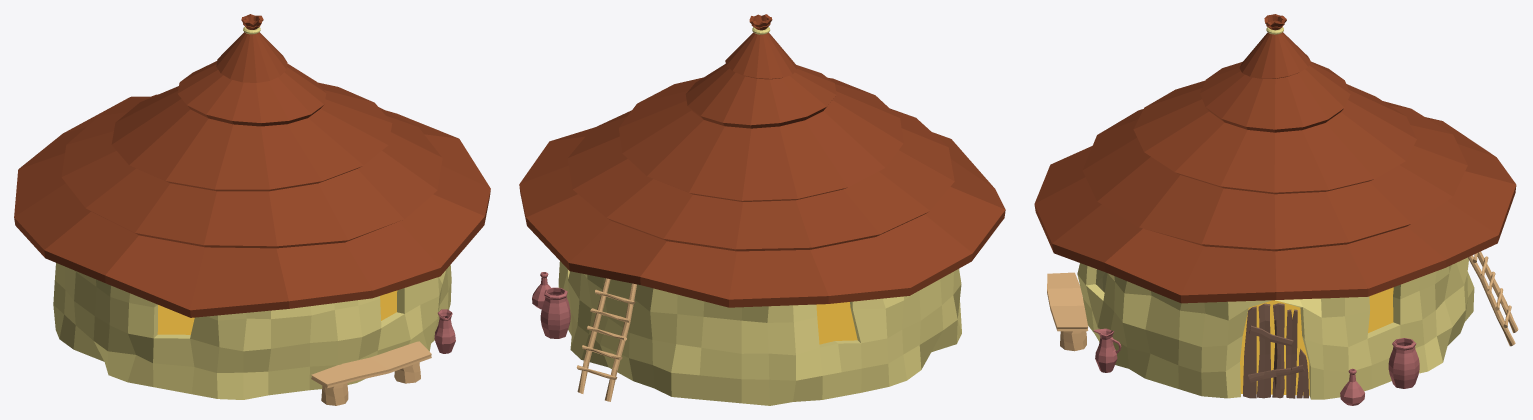
File: casa0.fbx
The picture shows the model from 3 angles, left to right: view 1: azimuth 30°, elevation 25°; view 2: azimuth 150°, elevation 25°; view 3: azimuth 270°, elevation 25°; orthographic projection.
Visible parts, largest first — view 1: Cube.008; view 2: Cube.008; view 3: Cube.008.
Boxes of the visible parts, x1,y1,x2,y2 form: Cube.008: (14, 14, 490, 405); Cube.008: (519, 14, 1005, 405); Cube.008: (1034, 14, 1518, 405).
Size of the model in its own units: 729 by 503 by 733.
